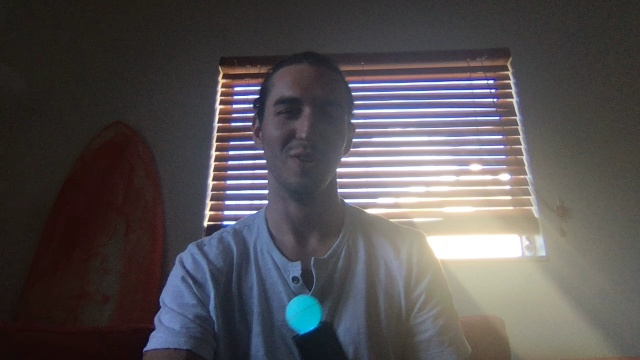wand: (288, 296, 323, 333)
